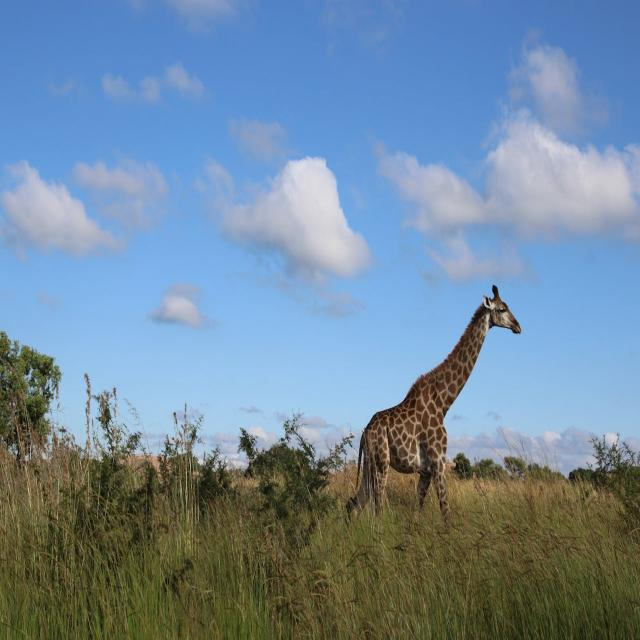Giraffe: (346, 282, 522, 533)
